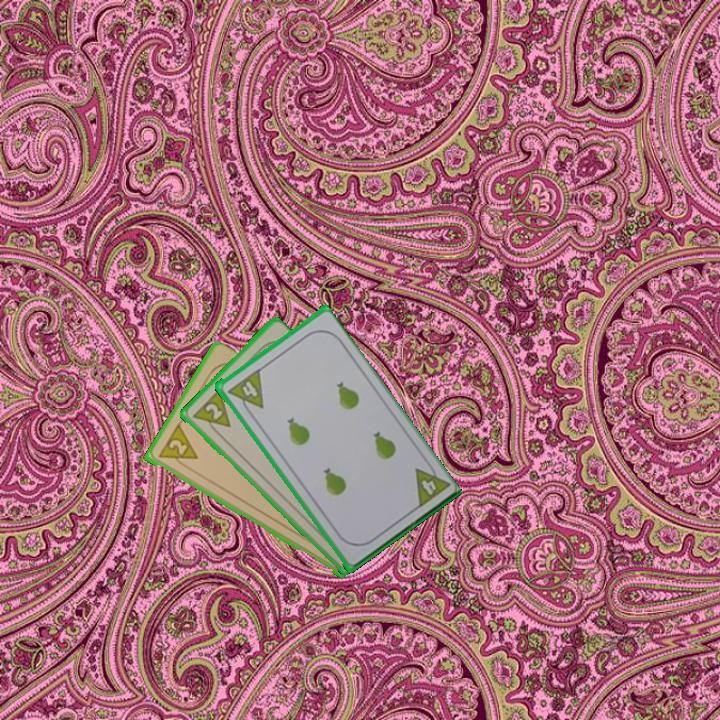2p: (188, 386, 234, 440), (154, 422, 200, 472)
4p: (223, 366, 266, 418), (411, 457, 452, 511)
